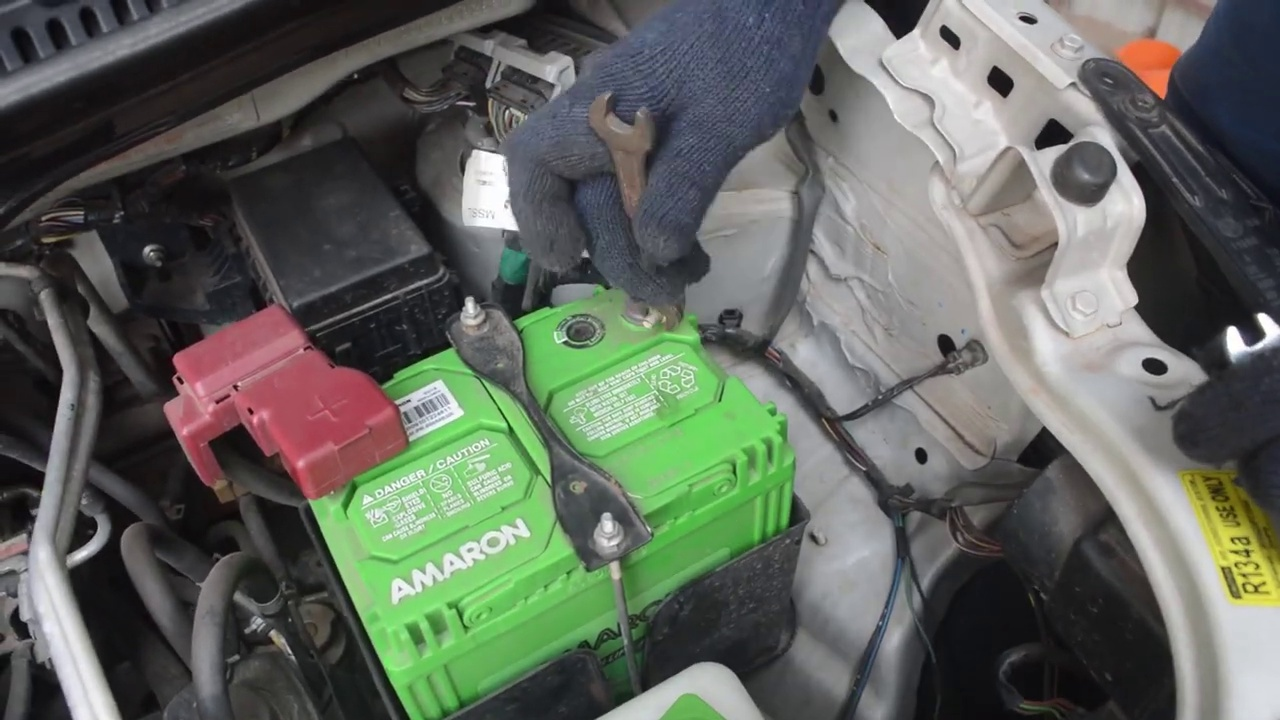battery: (285, 264, 802, 656)
neg_touched: (547, 92, 706, 338)
pos_connected: (209, 329, 414, 491)
